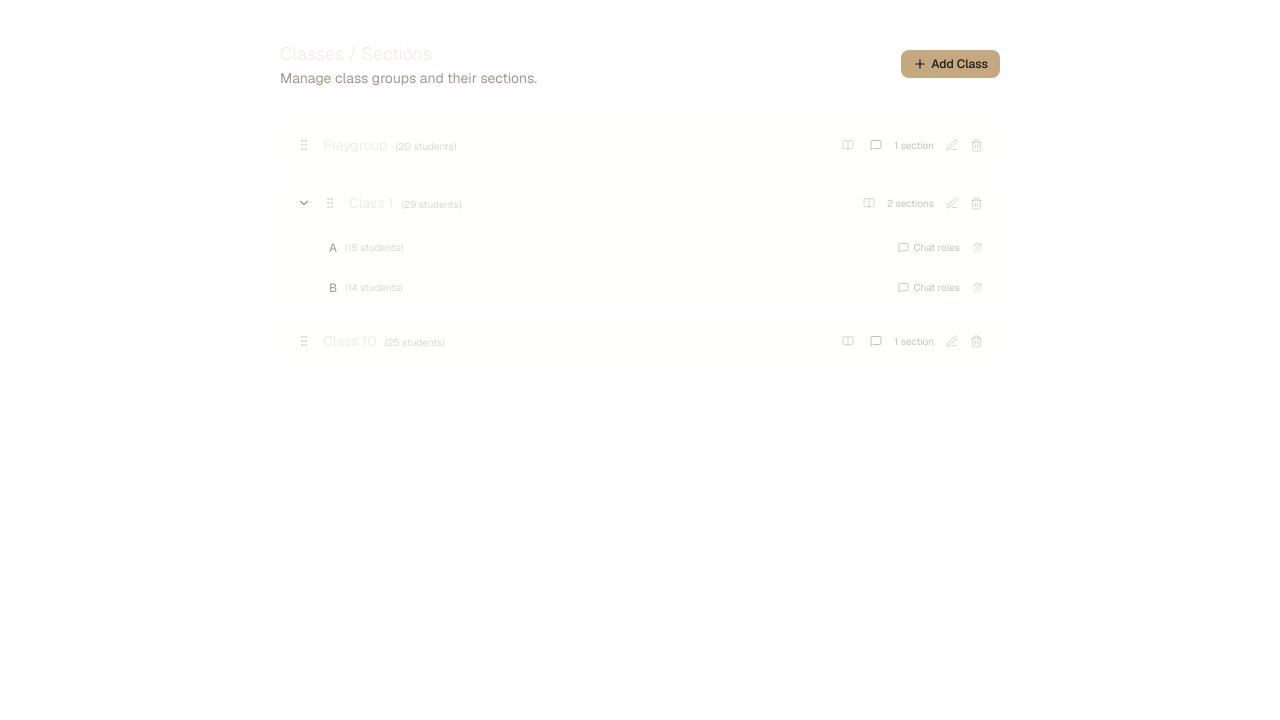
ClassesPage — add class modal › opens the create modal when Add Class is clicked
What coordinates should you click on to do the following:
click the button "Add Class"
I would click on:
 (951, 64)
Its box is [901,50,1000,78].
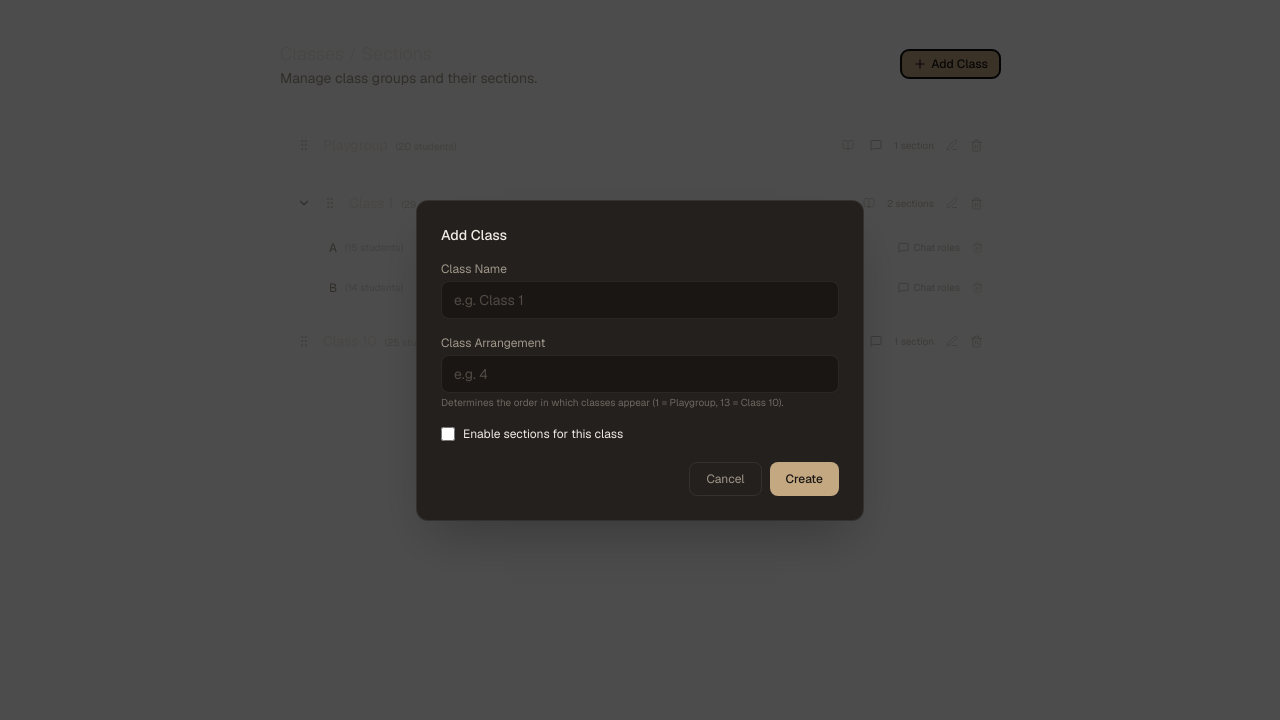
Expected: the text "Class Name" is shown, [441,260,507,276]
Expected: the text "Class Arrangement" is shown, [441,334,546,350]
